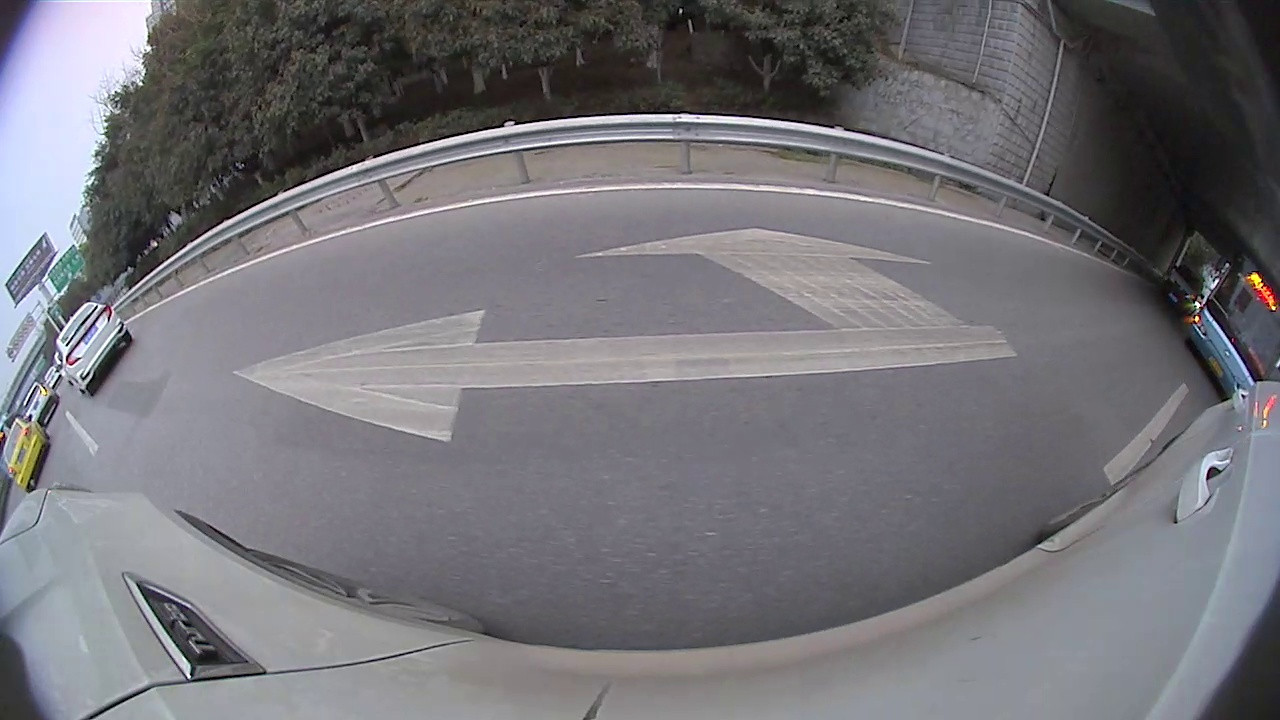bus: (8, 169, 137, 345), (1165, 297, 1204, 357)
car: (427, 7, 760, 160), (973, 185, 1129, 332), (1130, 289, 1175, 342)
front: (695, 113, 742, 160), (1100, 307, 1124, 331)
rear: (485, 109, 532, 155), (1057, 283, 1093, 322)
